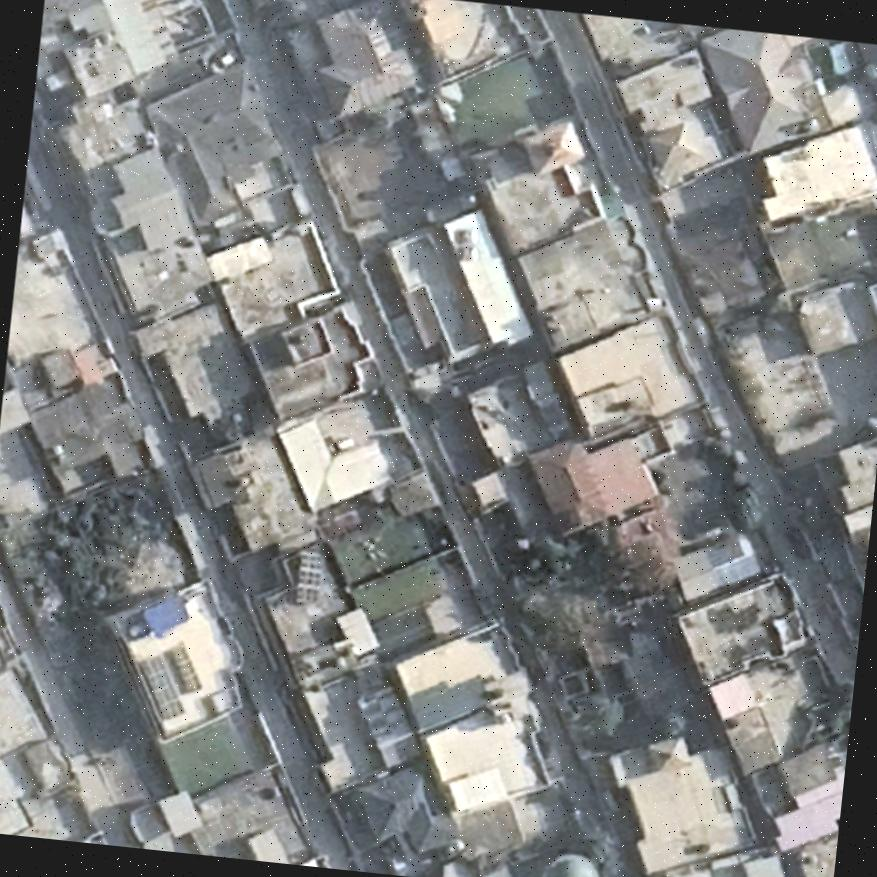Solarpanel: (128, 634, 210, 730), (289, 549, 326, 604)
